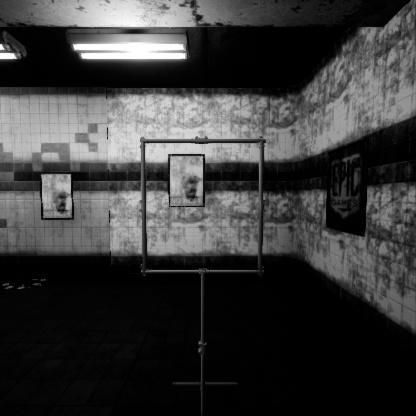gate: (141, 140, 277, 278)
